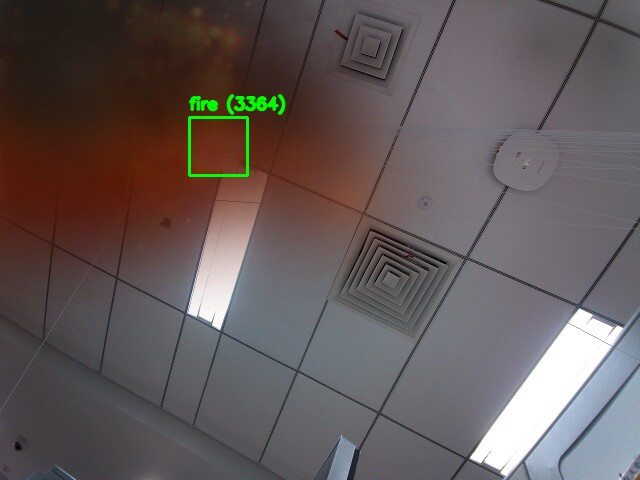fire: (189, 117, 247, 175)
